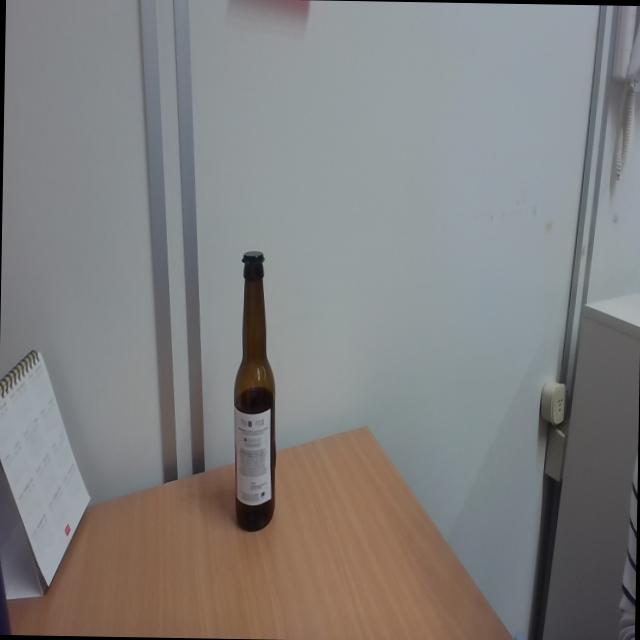Bottle: (232, 248, 282, 532)
Cap: (240, 248, 265, 268)
Label: (236, 403, 270, 504)
